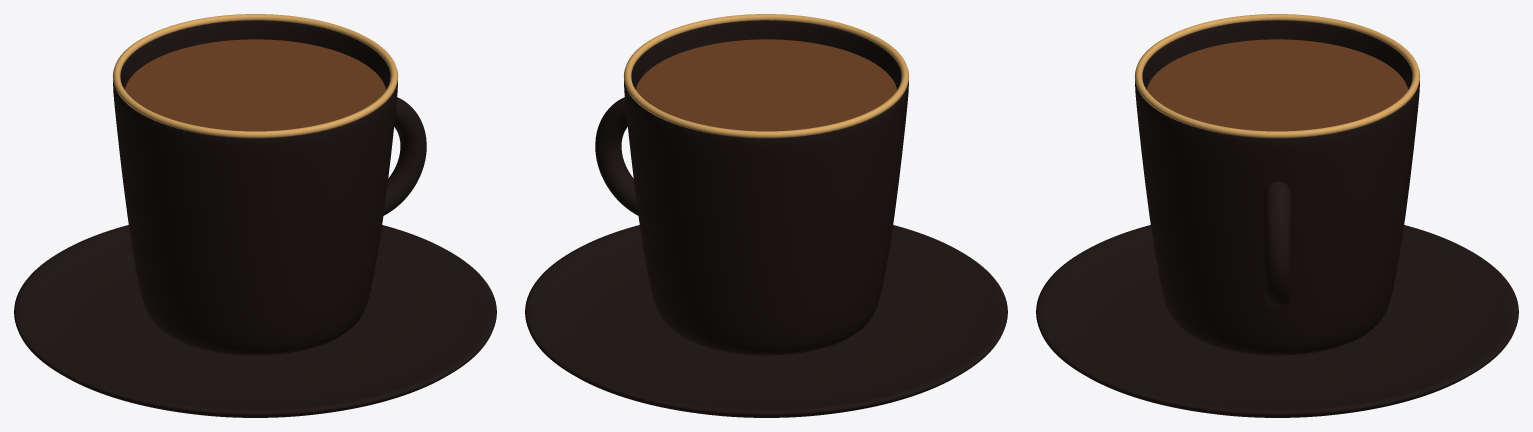
Rendered from cafflora-cup.glb.
3 renders of one model, left to right at view 1: azimuth 30°, elevation 25°; view 2: azimuth 150°, elevation 25°; view 3: azimuth 270°, elevation 25°, orthographic.
Parts seen in each view (by area): view 1: Cup, Saucer, Coffee, Rim, Handle; view 2: Cup, Saucer, Coffee, Rim, Handle; view 3: Cup, Saucer, Coffee, Rim, Handle.
Boxes of the visible parts, left/top/right/bottom form: Cup: left=113, top=20, right=397, bottom=355; Saucer: left=14, top=225, right=496, bottom=417; Coffee: left=125, top=39, right=385, bottom=131; Rim: left=112, top=14, right=398, bottom=138; Handle: left=383, top=97, right=426, bottom=215; Cup: left=624, top=20, right=908, bottom=355; Saucer: left=525, top=225, right=1007, bottom=417; Coffee: left=636, top=39, right=896, bottom=131; Rim: left=623, top=14, right=909, bottom=138; Handle: left=595, top=97, right=638, bottom=215; Cup: left=1135, top=20, right=1419, bottom=355; Saucer: left=1036, top=225, right=1518, bottom=417; Coffee: left=1147, top=39, right=1407, bottom=131; Rim: left=1134, top=14, right=1420, bottom=138; Handle: left=1264, top=181, right=1290, bottom=307.
Bounding box in the file's own units: 4.28 × 2.53 × 4.28.
